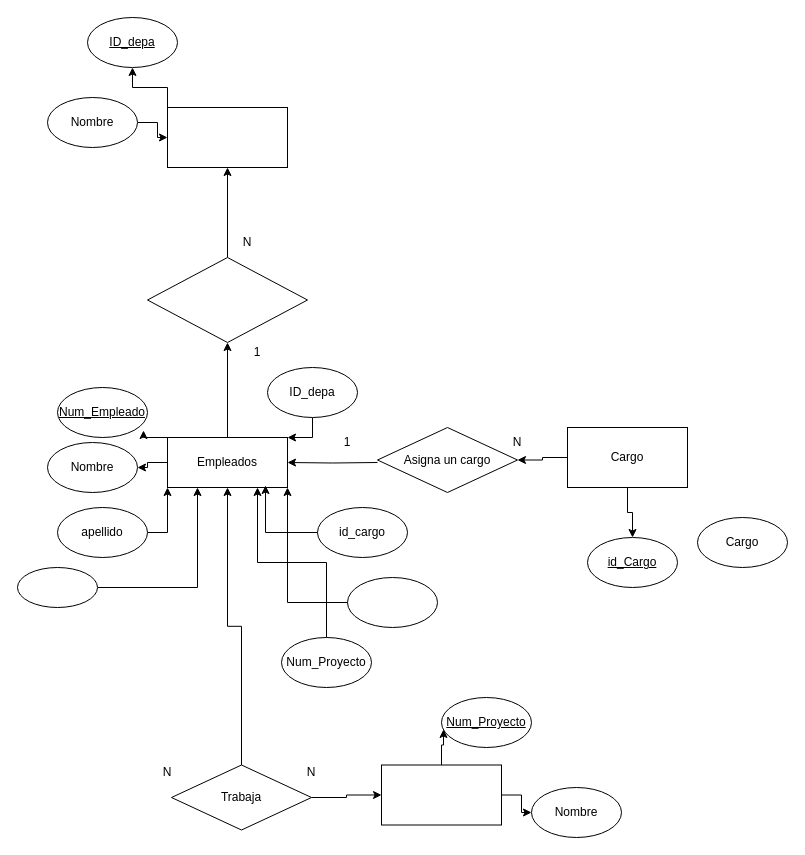
Image size: 805x855. Some labels were removed from this diagram. The shapes that lost their labels are listed below. From the top down, each one's centre as x and y in pixels, then its label:
At [227,137]: "Departamentos".
At [227,299]: "Asigna un departamento".
At [57,587]: "Salario".
At [392,602]: "Fecha de inicio".
At [441,794]: "Proyectos".
